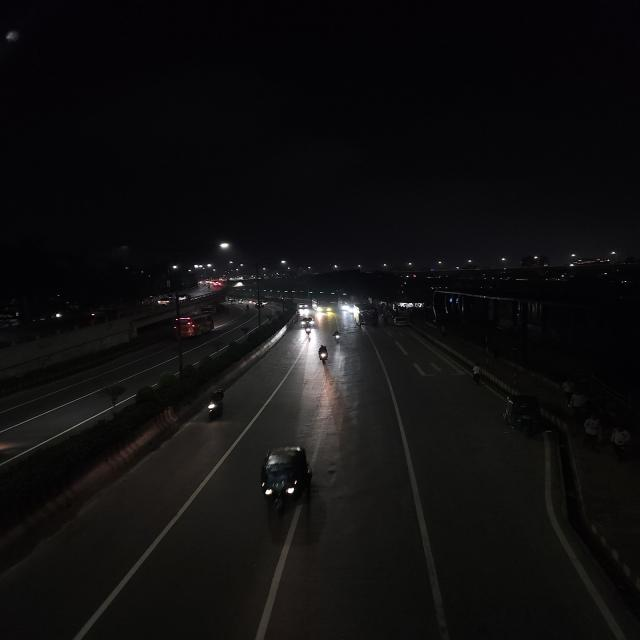bus: (170, 309, 216, 339), (314, 301, 334, 315)
car: (392, 312, 408, 328), (156, 296, 172, 308), (296, 302, 311, 312), (301, 316, 313, 328), (299, 312, 313, 322)
cng: (256, 442, 315, 516), (499, 392, 547, 440)
motorcycle: (202, 388, 229, 423), (315, 344, 332, 366), (331, 330, 343, 344), (306, 326, 316, 336)
pedestrian: (467, 362, 487, 388)
truck: (357, 305, 380, 328), (391, 312, 409, 328)
